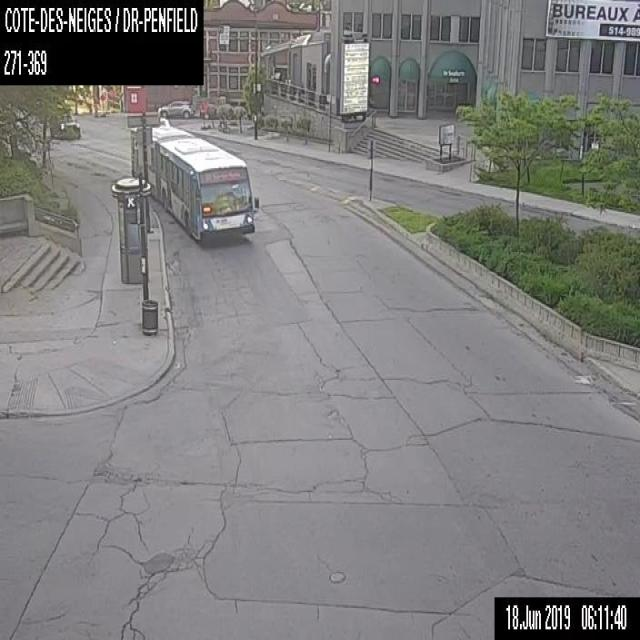bus: (130, 114, 259, 242)
vehicle: (54, 113, 81, 140), (156, 99, 192, 118)
